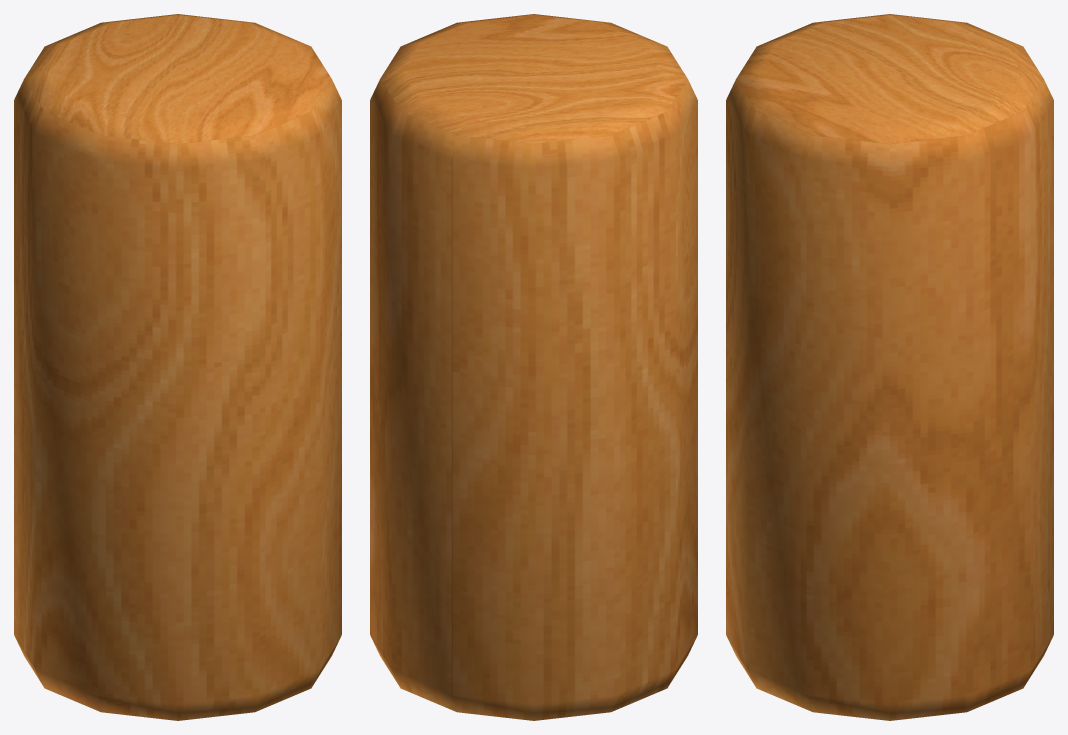
The model's file is CylinderC.fbx.
3 renders of one model, left to right at view 1: azimuth 30°, elevation 25°; view 2: azimuth 150°, elevation 25°; view 3: azimuth 270°, elevation 25°, orthographic.
Parts seen in each view (by area): view 1: CylinderC; view 2: CylinderC; view 3: CylinderC.
Boxes of the visible parts, x1,y1,x2,y2 form: CylinderC: (14,14,341,720); CylinderC: (370,14,697,720); CylinderC: (726,14,1053,720).
Size of the model in its own units: 1 by 1 by 2.
1 material, 1 textured.
